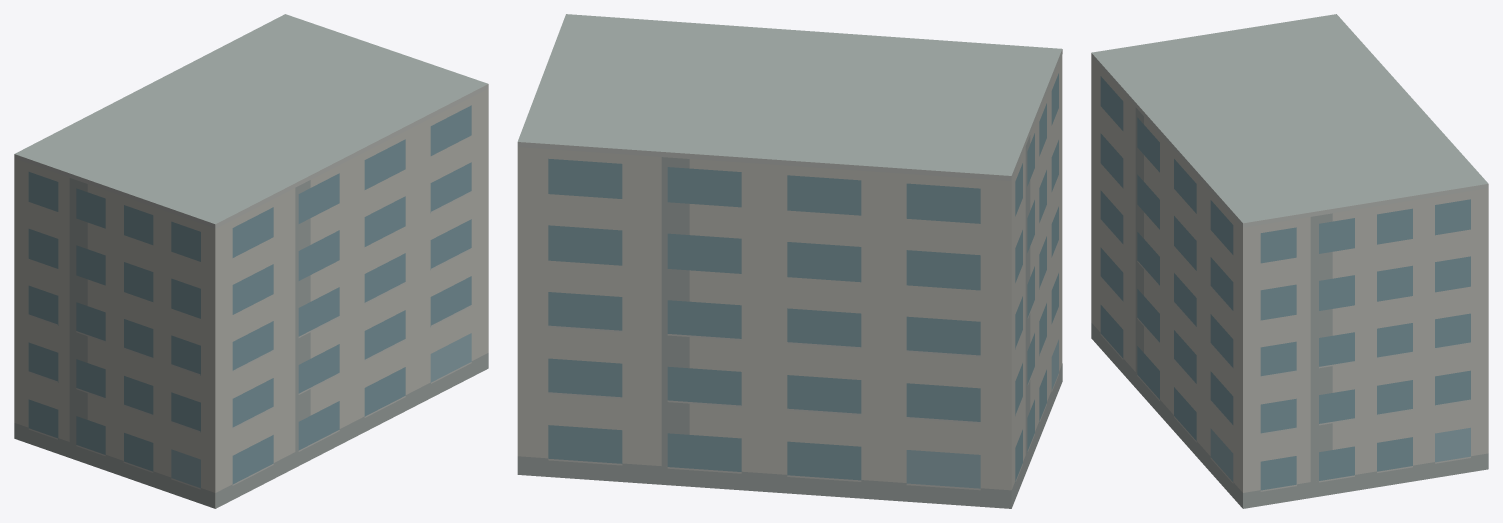
Rendered from survey-upis-32838967.glb.
3 renders of one model, left to right at view 1: azimuth 30°, elevation 25°; view 2: azimuth 150°, elevation 25°; view 3: azimuth 270°, elevation 25°, orthographic. The views are drawn at different scales.
Parts seen in each view (by area): view 1: survey-upis-32838967.tmp; view 2: survey-upis-32838967.tmp; view 3: survey-upis-32838967.tmp.
Part boxes in pixels (bbox=[...]): survey-upis-32838967.tmp: bbox=[14, 14, 488, 508]; survey-upis-32838967.tmp: bbox=[517, 14, 1062, 508]; survey-upis-32838967.tmp: bbox=[1091, 14, 1488, 508].
Bounding box in the file's own units: 24.54 × 15.6 × 19.68.
